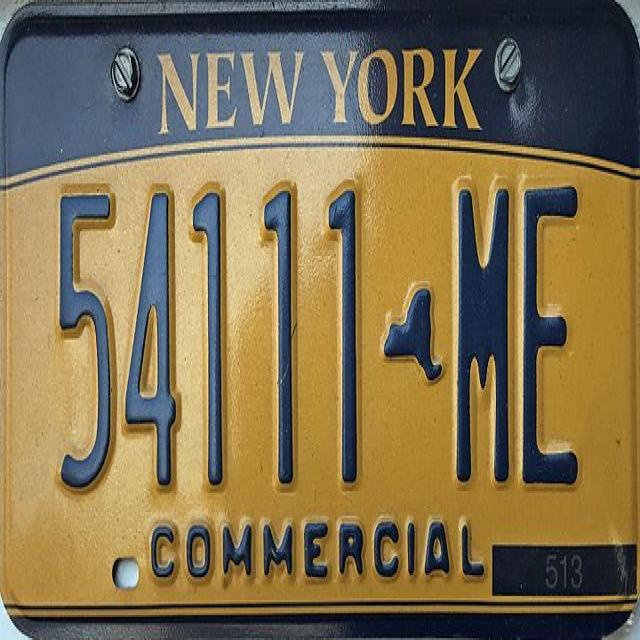placa: (6, 147, 630, 503)
